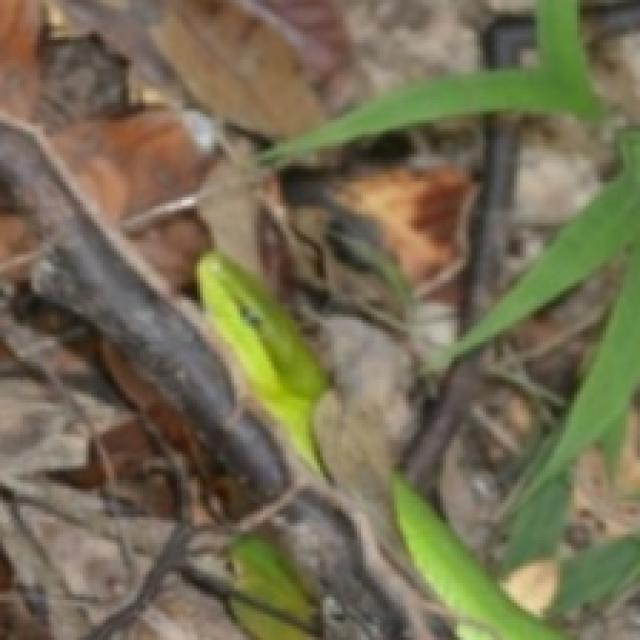red-tailed green ratsnake: (391, 471, 565, 640), (198, 254, 329, 478)
